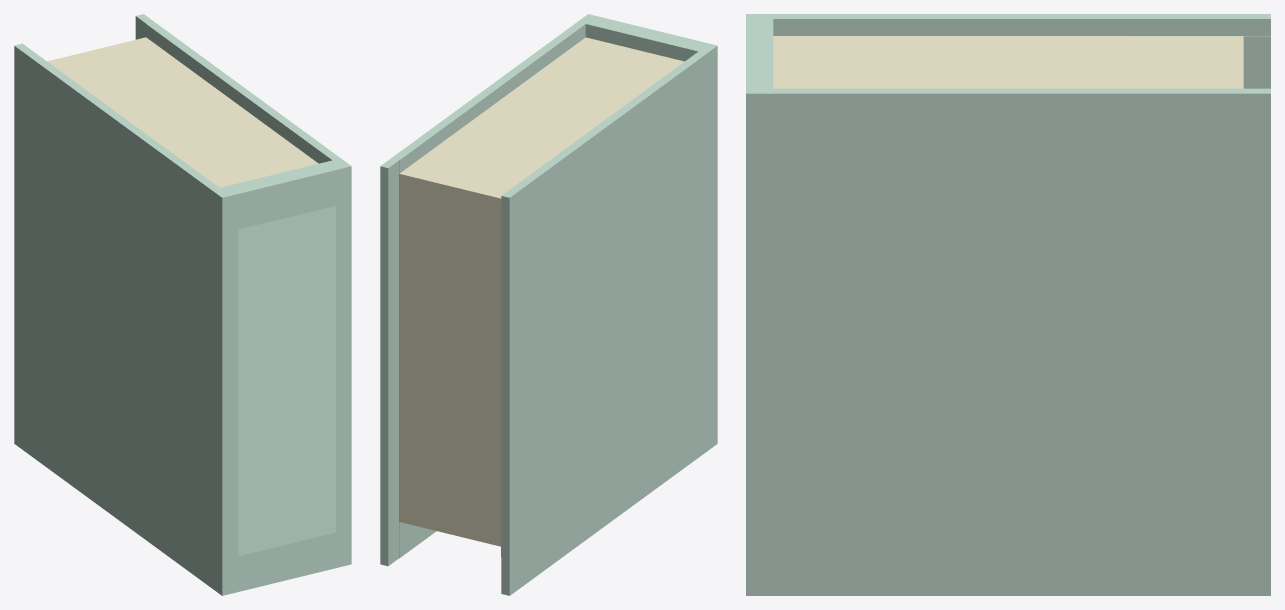
The model's file is book_5.fbx.
The picture shows the model from 3 angles, left to right: view 1: azimuth 30°, elevation 25°; view 2: azimuth 150°, elevation 25°; view 3: azimuth 270°, elevation 25°; orthographic projection. The views are drawn at different scales.
Visible parts, largest first — view 1: Boole_1; view 2: Boole_1; view 3: Boole_1.
Part boxes in pixels (x1,y1,x2,y2): Boole_1: (14,14,351,595); Boole_1: (380,14,717,595); Boole_1: (746,14,1270,595).
Size of the model in its own units: 3.16 by 9.27 by 8.78.
